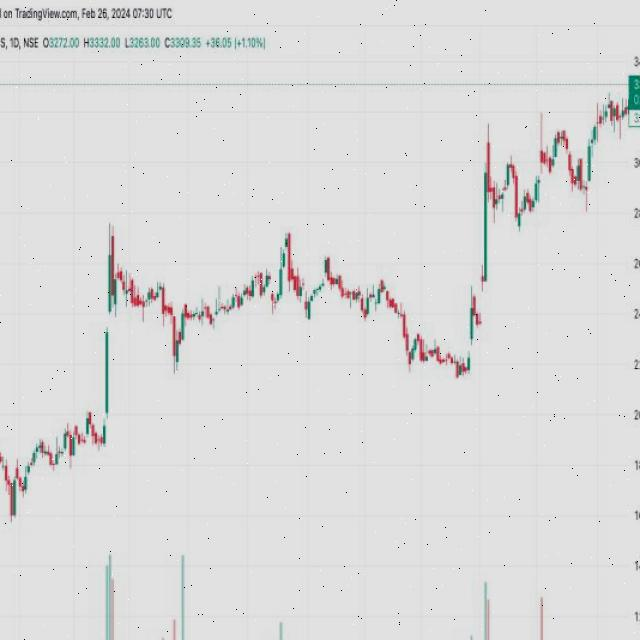GAP DOWN: (264, 260, 277, 325)
GAP UP: (101, 240, 116, 428), (461, 297, 479, 379), (476, 249, 491, 336)
